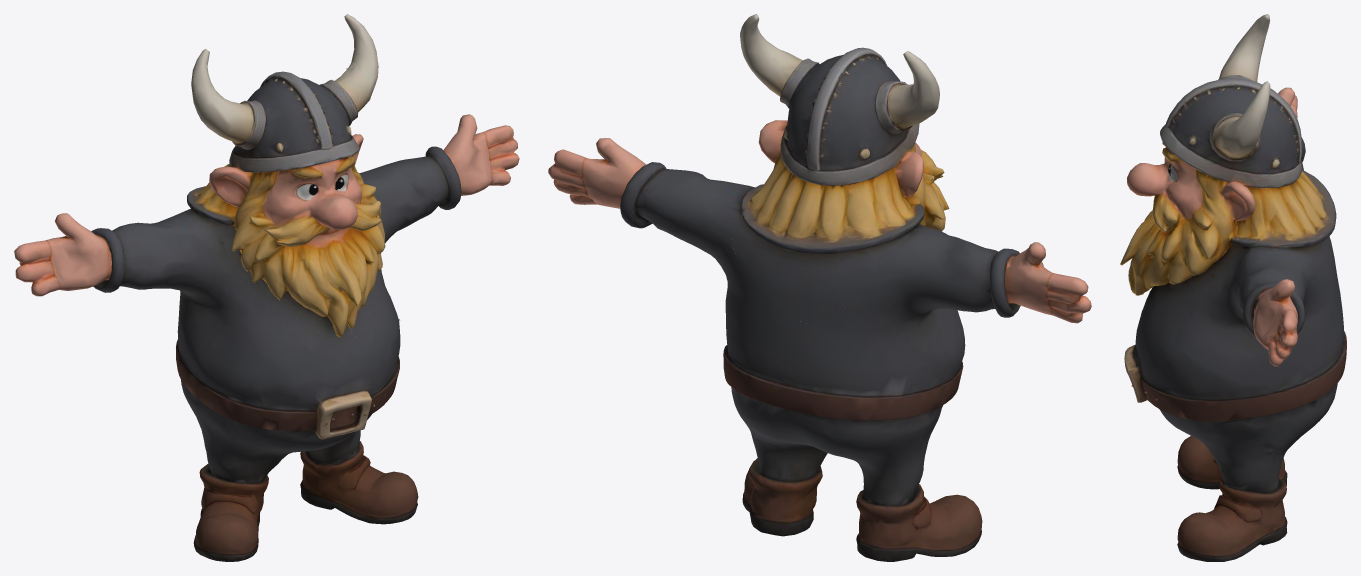
The model's file is vikingo.glb.
The picture shows the model from 3 angles, left to right: view 1: azimuth 30°, elevation 25°; view 2: azimuth 150°, elevation 25°; view 3: azimuth 270°, elevation 25°; orthographic projection. The views are drawn at different scales.
Parts seen in each view (by area): view 1: tripo_node_47dce473-d520-47e3-81c4-2d5d11d2801c; view 2: tripo_node_47dce473-d520-47e3-81c4-2d5d11d2801c; view 3: tripo_node_47dce473-d520-47e3-81c4-2d5d11d2801c.
Part boxes in pixels (x1=…): tripo_node_47dce473-d520-47e3-81c4-2d5d11d2801c: x1=14, y1=14, x2=519, y2=561; tripo_node_47dce473-d520-47e3-81c4-2d5d11d2801c: x1=548, y1=14, x2=1091, y2=561; tripo_node_47dce473-d520-47e3-81c4-2d5d11d2801c: x1=1120, y1=14, x2=1346, y2=561.
Size of the model in its own units: 1 by 0.9164 by 0.4012.
Materials: 1 (1 with a texture image).
